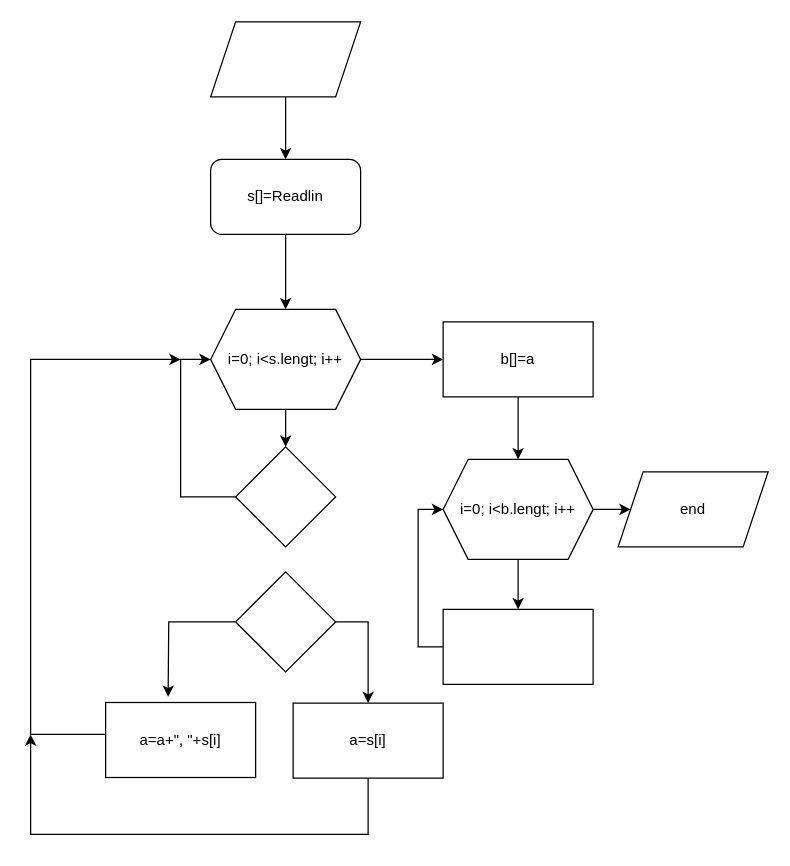
The diagram is 790 pixels wide and 866 high, and some of its shapes have lost their labels. The centre of each missing label's shape, as x and y in pixels:
"a=TEST" goes at [285,621].
"bigin" goes at [285,59].
"print b[i]" goes at [517,646].
"s[i]lengt <4" goes at [285,496].
